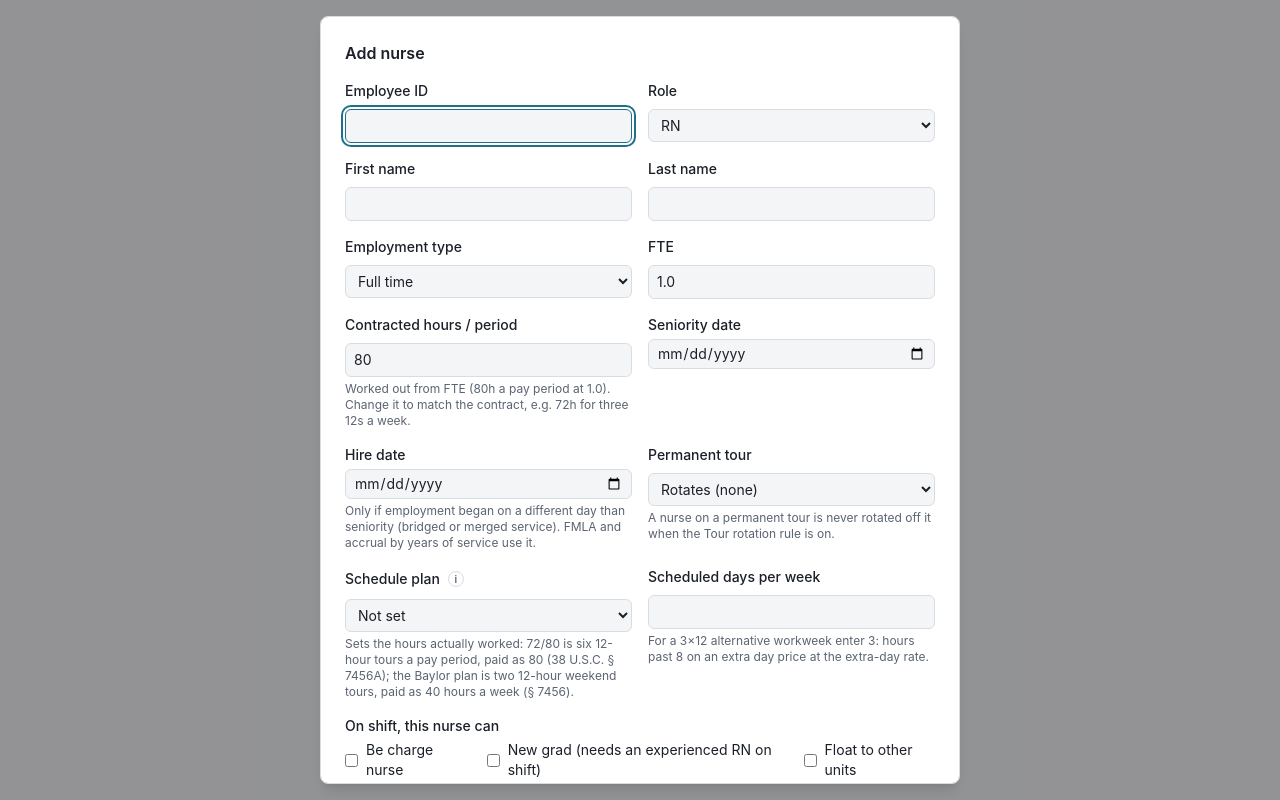
Test case: choosing a nurse’s schedule plan › fills 0.9 FTE and 72 worked hours for a 72/80 nurse
This screenshot has width=1280, height=800.
Step 1. Select "VA 72/80 (38 U.S.C. § 7456A)" in the dropdown labelled "Schedule plan" → (488, 616), box [345, 599, 632, 632]
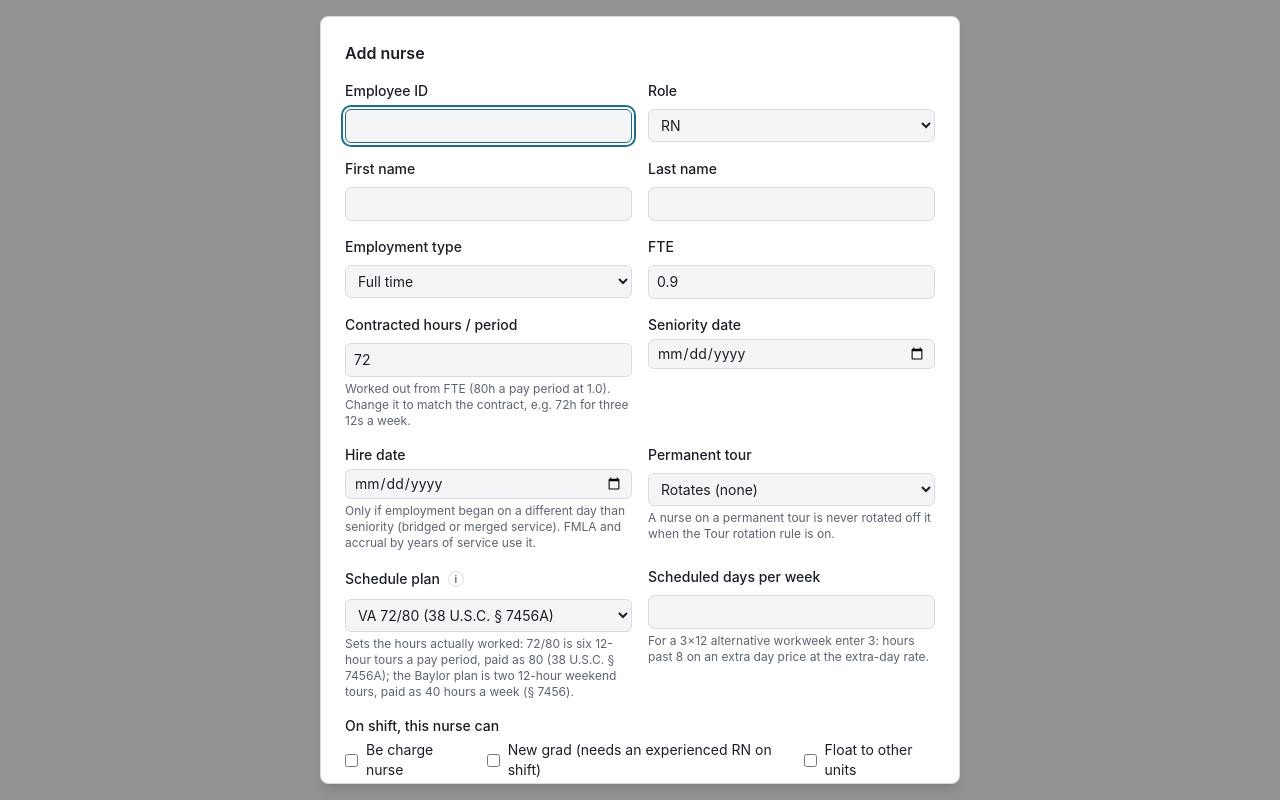
Expected: the number field labelled "FTE" holds "0.9", [648, 265, 935, 299]
Expected: the number field labelled "Contracted hours / period" holds "72", [345, 343, 632, 377]
